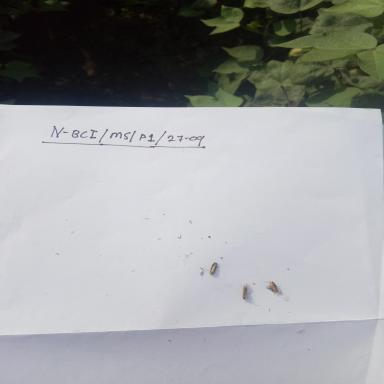pbw: (195, 258, 231, 281), (260, 277, 290, 298), (238, 281, 252, 302)
